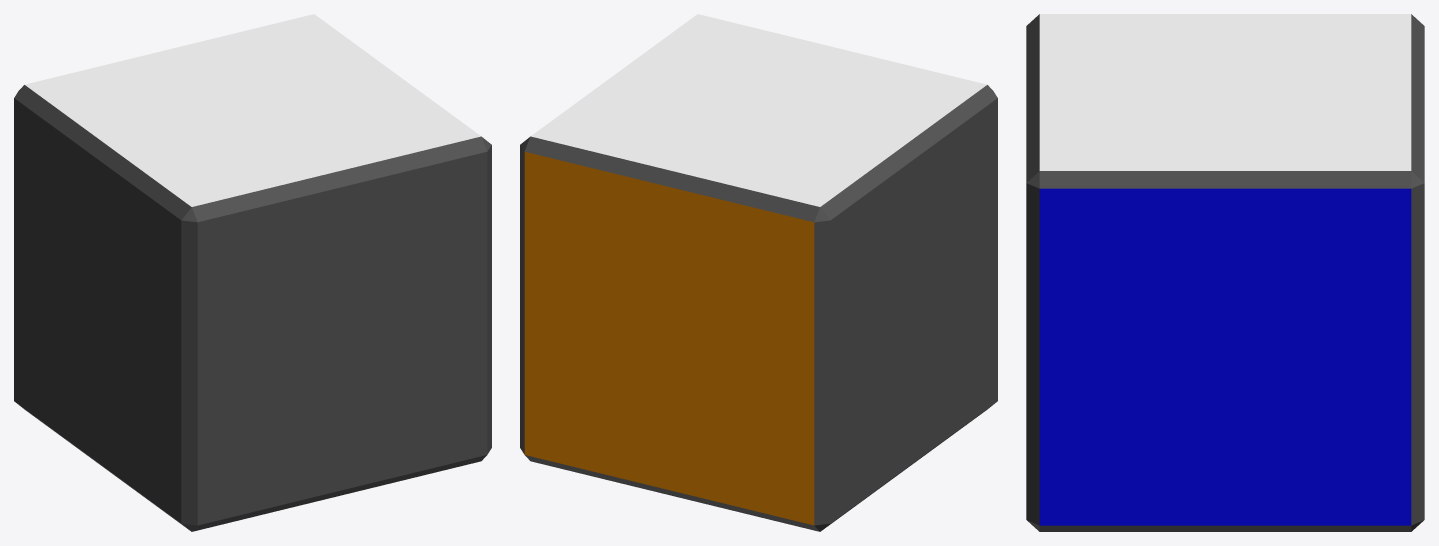
The model's file is wob.obj.
3 views of the same model, side by side, from view 1: azimuth 30°, elevation 25°; view 2: azimuth 150°, elevation 25°; view 3: azimuth 270°, elevation 25° (orthographic). The views are drawn at different scales.
Parts seen in each view (by area): view 1: Cube_Cube.001; view 2: Cube_Cube.001; view 3: Cube_Cube.001.
Boxes of the visible parts, left/top/right/bottom form: Cube_Cube.001: left=14, top=14, right=491, bottom=531; Cube_Cube.001: left=520, top=14, right=997, bottom=531; Cube_Cube.001: left=1026, top=14, right=1424, bottom=531.
Size of the model in its own units: 20 by 20 by 20.
